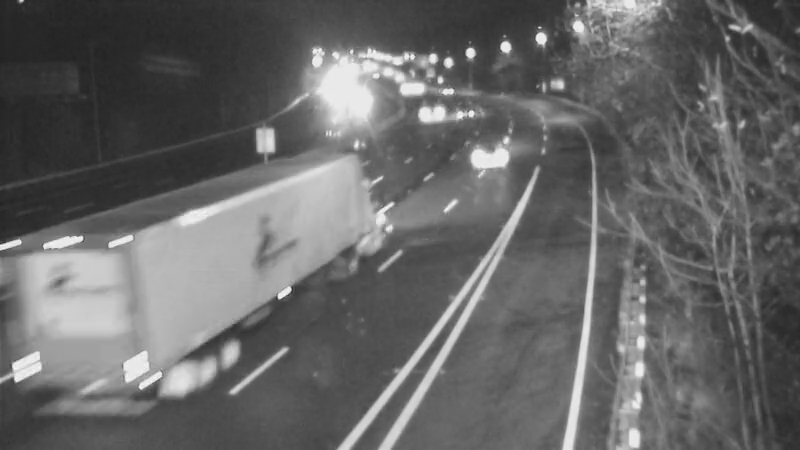vehicle: (445, 114, 525, 194), (178, 222, 258, 302), (381, 63, 431, 113), (418, 66, 468, 116), (434, 87, 484, 137), (405, 88, 455, 138), (326, 81, 376, 131)
